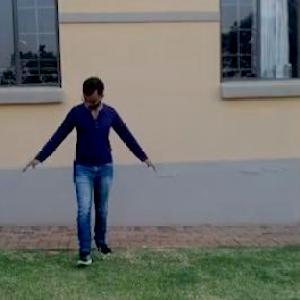land: (20, 52, 173, 280)
